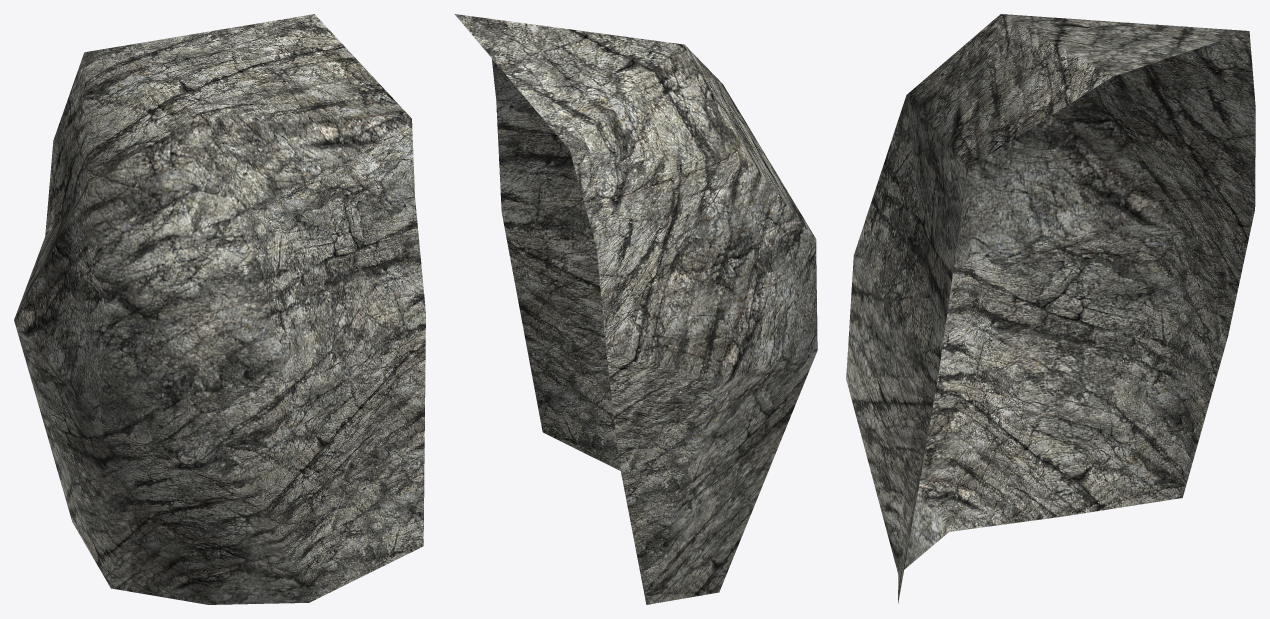
Rendered from Rock-2.fbx.
3 views of the same model, side by side, from view 1: azimuth 30°, elevation 25°; view 2: azimuth 150°, elevation 25°; view 3: azimuth 270°, elevation 25° (orthographic). The views are drawn at different scales.
Parts seen in each view (by area): view 1: pCube1; view 2: pCube1; view 3: pCube1.
Boxes of the visible parts, <box> form: pCube1: <box>14,14,425,604</box>; pCube1: <box>454,14,817,604</box>; pCube1: <box>846,14,1255,603</box>.
Bounding box in the file's own units: 2.86 × 4.42 × 2.91.
1 material, 1 textured.
